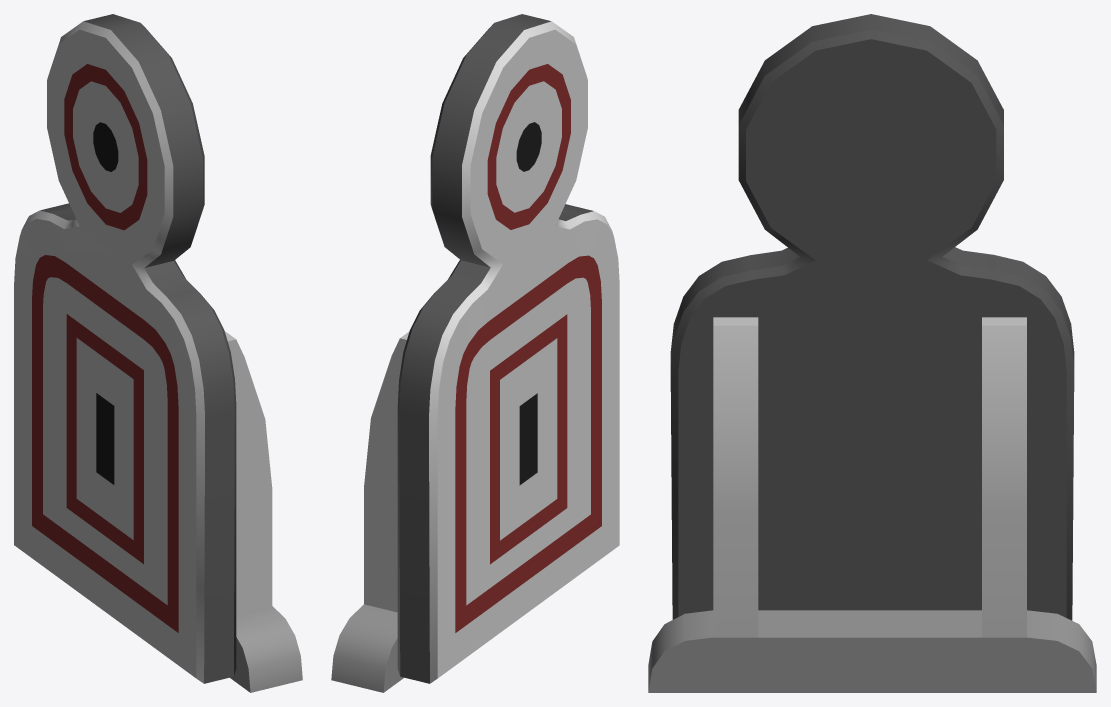
The model's file is Entity_TargetBody.FBX.
3 views of the same model, side by side, from view 1: azimuth 30°, elevation 25°; view 2: azimuth 150°, elevation 25°; view 3: azimuth 270°, elevation 25° (orthographic). The views are drawn at different scales.
Visible parts, largest first — view 1: TargetBody, Backboard; view 2: TargetBody, Backboard; view 3: TargetBody, Backboard.
Boxes of the visible parts, x1=… form: TargetBody: x1=14, y1=14, x2=236, y2=683; Backboard: x1=224, y1=331, x2=302, y2=692; TargetBody: x1=397, y1=14, x2=619, y2=683; Backboard: x1=331, y1=332, x2=409, y2=692; TargetBody: x1=670, y1=14, x2=1074, y2=620; Backboard: x1=648, y1=317, x2=1096, y2=692.
Size of the model in its own units: 12.53 by 77.06 by 49.43.
